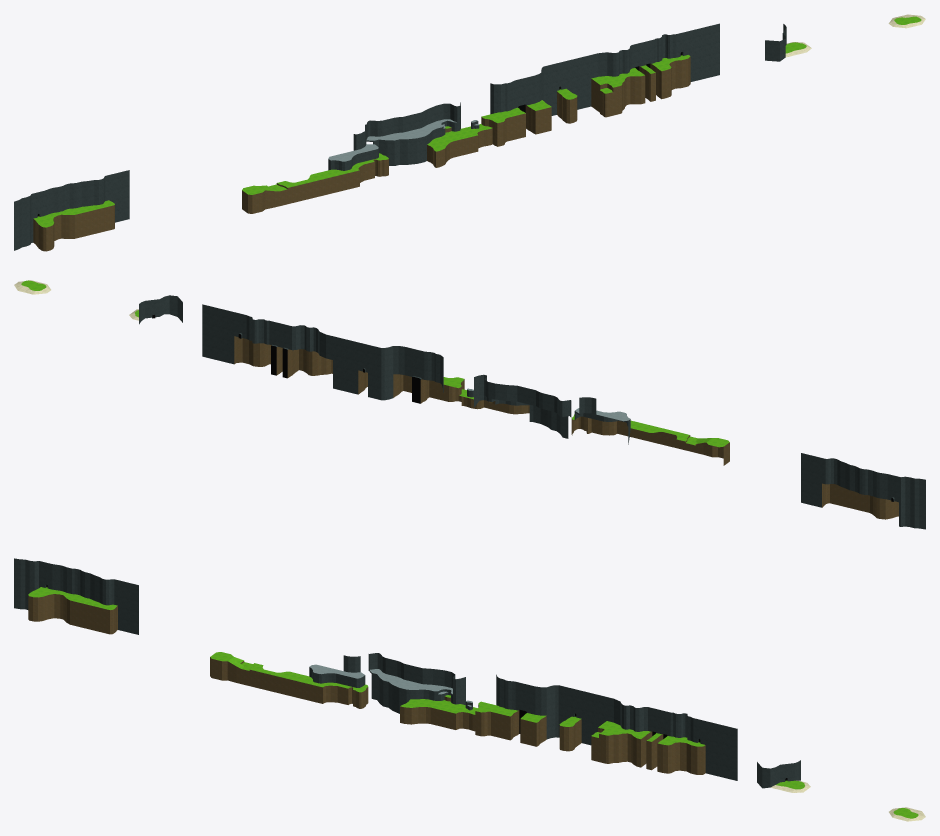
File: trip_to_lake_vis.obj
3 views of the same model, one above another, from view 1: azimuth 30°, elevation 25°; view 2: azimuth 150°, elevation 25°; view 3: azimuth 330°, elevation 25° (orthographic).
Parts seen in each view (by area): view 1: SketchUp.009_ID95.006, SketchUp.018_ID163.003, SketchUp.004_ID50.003, SketchUp_ID3.005, SketchUp.016_ID149.003, SketchUp.005_ID58.003, SketchUp.014_ID135.003, SketchUp.021_ID187.003, SketchUp.002_ID29.005, SketchUp.008_ID87.006, SketchUp.003_ID42.003, SketchUp.037_ID307.003 (+4 smaller); view 2: SketchUp.009_ID95.006, SketchUp.018_ID163.003, SketchUp.004_ID50.003, SketchUp_ID3.005, SketchUp.016_ID149.003, SketchUp.005_ID58.003, SketchUp.014_ID135.003, SketchUp.021_ID187.003, SketchUp.029_ID243.003, SketchUp.002_ID29.005; view 3: SketchUp.009_ID95.006, SketchUp.018_ID163.003, SketchUp.004_ID50.003, SketchUp_ID3.005, SketchUp.005_ID58.003, SketchUp.016_ID149.003, SketchUp.014_ID135.003, SketchUp.021_ID187.003, SketchUp.002_ID29.005, SketchUp.029_ID243.003, SketchUp.008_ID87.006, SketchUp.003_ID42.003 (+4 smaller).
Boxes of the visible parts, x1=… form: SketchUp.009_ID95.006: x1=490, y1=23, x2=719, y2=115; SketchUp.018_ID163.003: x1=14, y1=170, x2=129, y2=250; SketchUp.004_ID50.003: x1=365, y1=102, x2=460, y2=165; SketchUp_ID3.005: x1=242, y1=159, x2=388, y2=213; SketchUp.016_ID149.003: x1=33, y1=205, x2=114, y2=251; SketchUp.005_ID58.003: x1=427, y1=113, x2=525, y2=167; SketchUp.014_ID135.003: x1=591, y1=75, x2=645, y2=117; SketchUp.021_ID187.003: x1=650, y1=56, x2=690, y2=99; SketchUp.002_ID29.005: x1=328, y1=128, x2=378, y2=170; SketchUp.008_ID87.006: x1=525, y1=105, x2=551, y2=134; SketchUp.003_ID42.003: x1=277, y1=153, x2=388, y2=187; SketchUp.037_ID307.003: x1=427, y1=124, x2=492, y2=151; SketchUp.009_ID95.006: x1=202, y1=304, x2=443, y2=400; SketchUp.018_ID163.003: x1=801, y1=453, x2=925, y2=529; SketchUp.004_ID50.003: x1=474, y1=374, x2=571, y2=438; SketchUp_ID3.005: x1=571, y1=416, x2=729, y2=465; SketchUp.016_ID149.003: x1=822, y1=483, x2=898, y2=519; SketchUp.005_ID58.003: x1=420, y1=379, x2=529, y2=414; SketchUp.014_ID135.003: x1=287, y1=349, x2=332, y2=377; SketchUp.021_ID187.003: x1=234, y1=336, x2=271, y2=366; SketchUp.029_ID243.003: x1=139, y1=295, x2=182, y2=324; SketchUp.002_ID29.005: x1=574, y1=397, x2=630, y2=444; SketchUp.009_ID95.006: x1=496, y1=674, x2=737, y2=780; SketchUp.018_ID163.003: x1=14, y1=558, x2=138, y2=634; SketchUp.004_ID50.003: x1=368, y1=653, x2=465, y2=713; SketchUp_ID3.005: x1=210, y1=657, x2=368, y2=708; SketchUp.005_ID58.003: x1=400, y1=705, x2=519, y2=740; SketchUp.016_ID149.003: x1=28, y1=594, x2=117, y2=634; SketchUp.014_ID135.003: x1=591, y1=727, x2=652, y2=767; SketchUp.021_ID187.003: x1=657, y1=742, x2=705, y2=774; SketchUp.002_ID29.005: x1=309, y1=655, x2=365, y2=687; SketchUp.029_ID243.003: x1=757, y1=760, x2=800, y2=788; SketchUp.008_ID87.006: x1=520, y1=716, x2=546, y2=746; SketchUp.003_ID42.003: x1=250, y1=663, x2=368, y2=692.
Bounding box in the file's own units: 1329 × 72.5 × 71.97.
6 materials, 5 textured.
